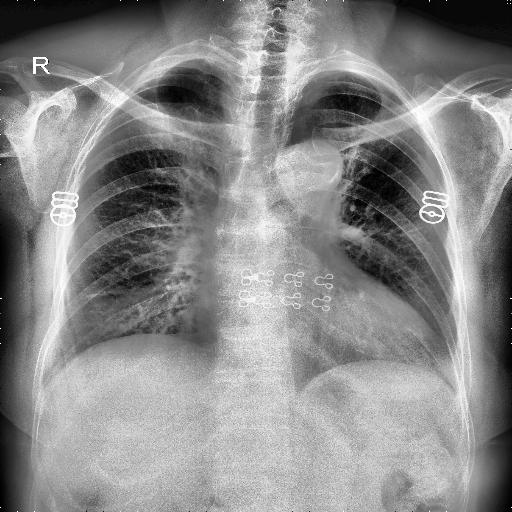0- Aortic enlargement: (280, 138, 342, 208), (276, 138, 343, 198), (281, 139, 340, 188)
11- Pleural thickening: (302, 67, 342, 91)
2- Calcification: (324, 162, 342, 182)
3- Cardiomegaly: (202, 266, 444, 370), (195, 295, 453, 388), (196, 307, 446, 384)
